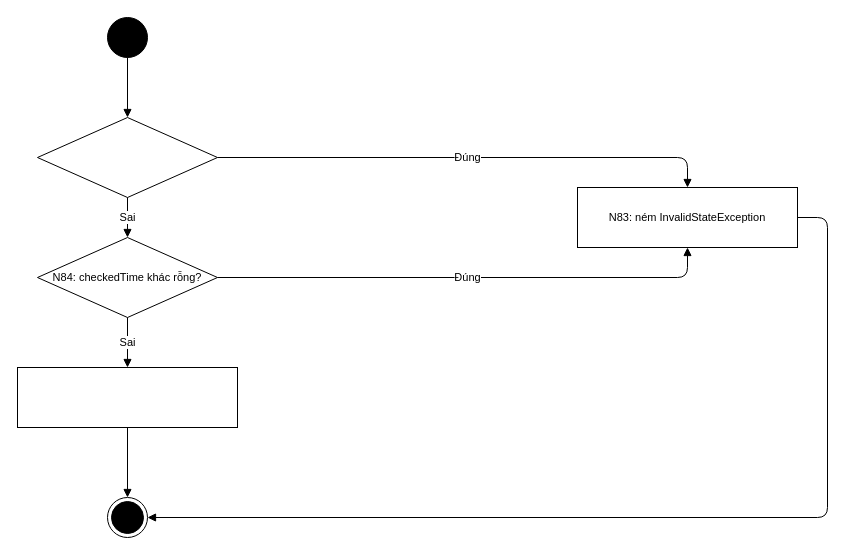
This 853x555 diagram has some shape labels left out. Here are the shapes that lost their labels. From the top down, the centre of each, then its label:
(x=127, y=157): N82: status khác ISSUED?
(x=127, y=397): N85: checkedTime = checkTime
